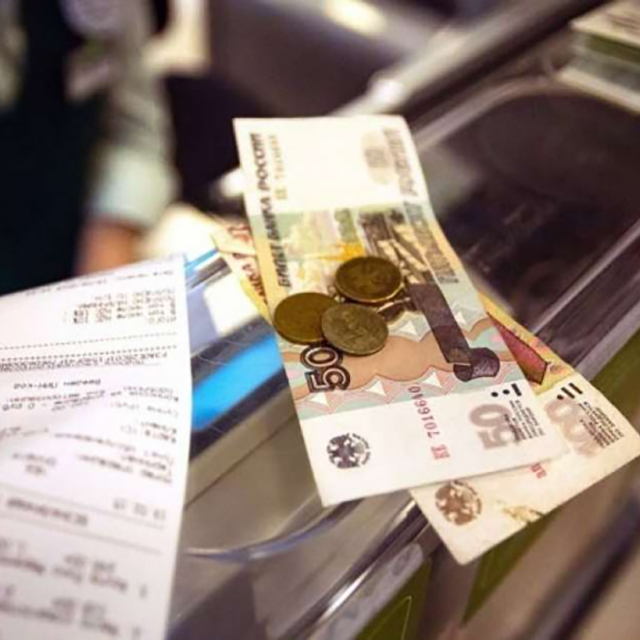banknotes: (212, 113, 640, 564)
